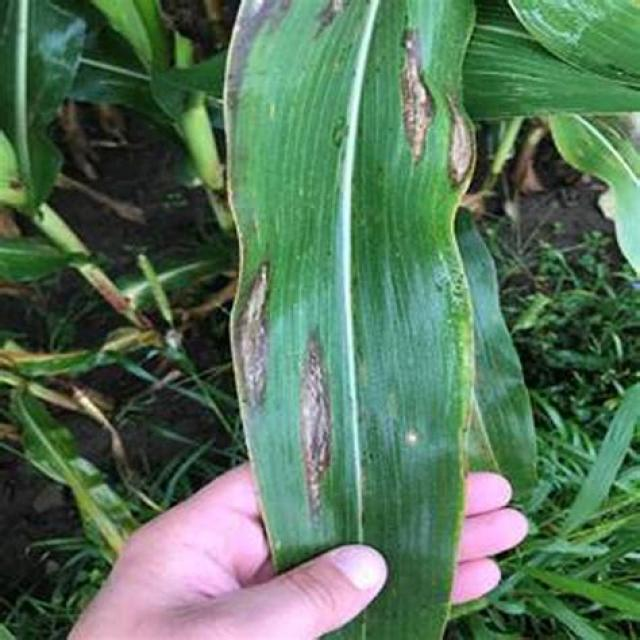blight: (239, 228, 371, 496), (391, 13, 472, 199)
